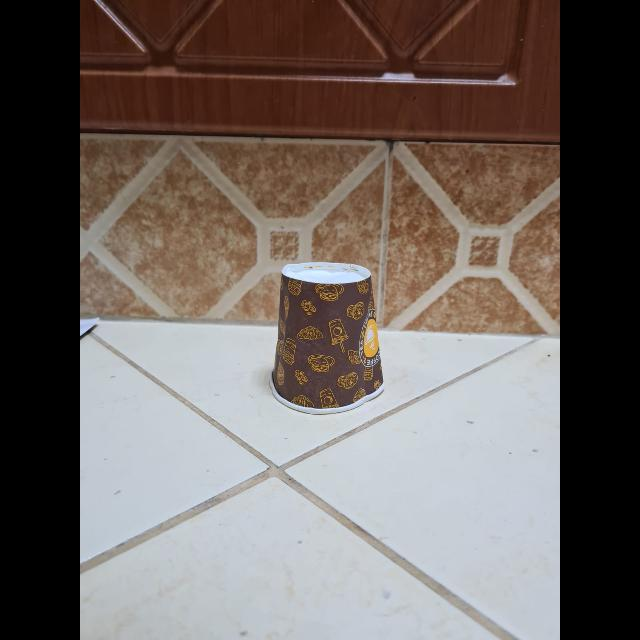trash: (262, 254, 386, 414)
